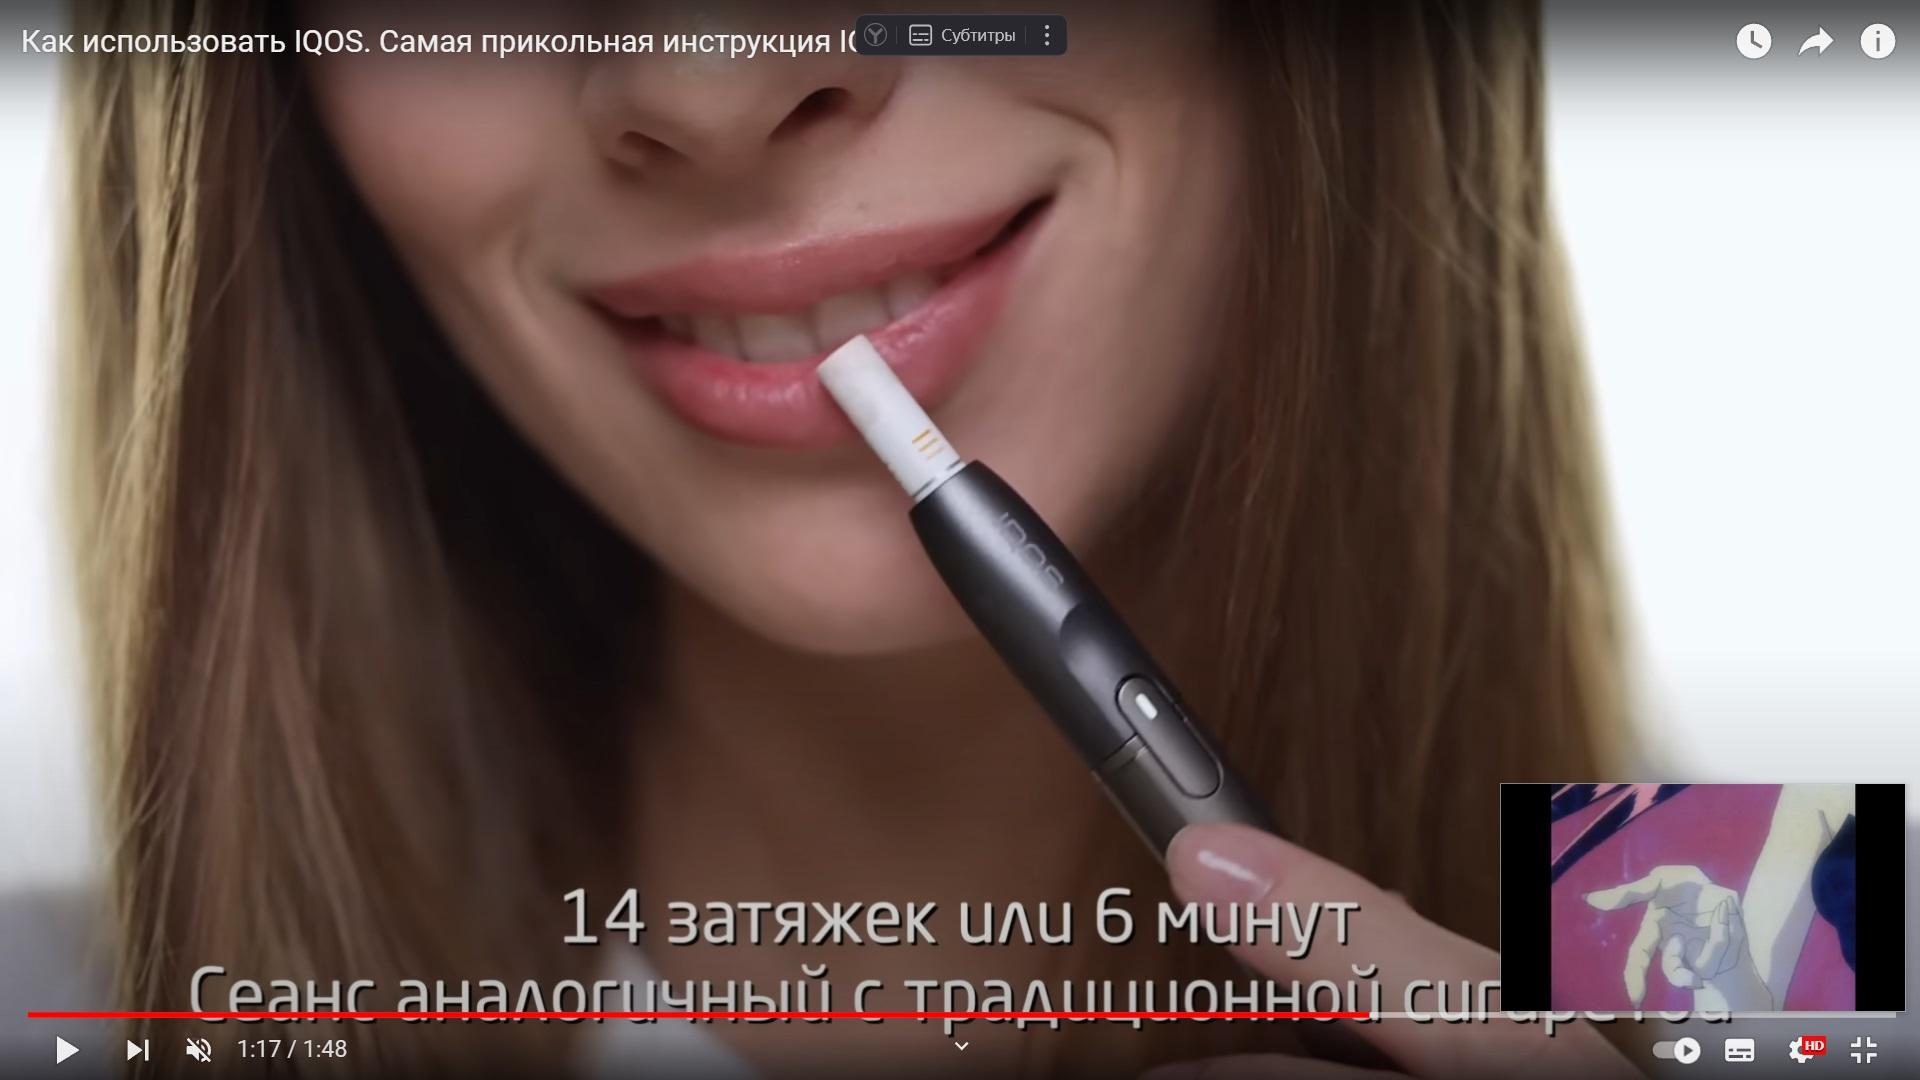iqos: (818, 338, 1267, 866)
